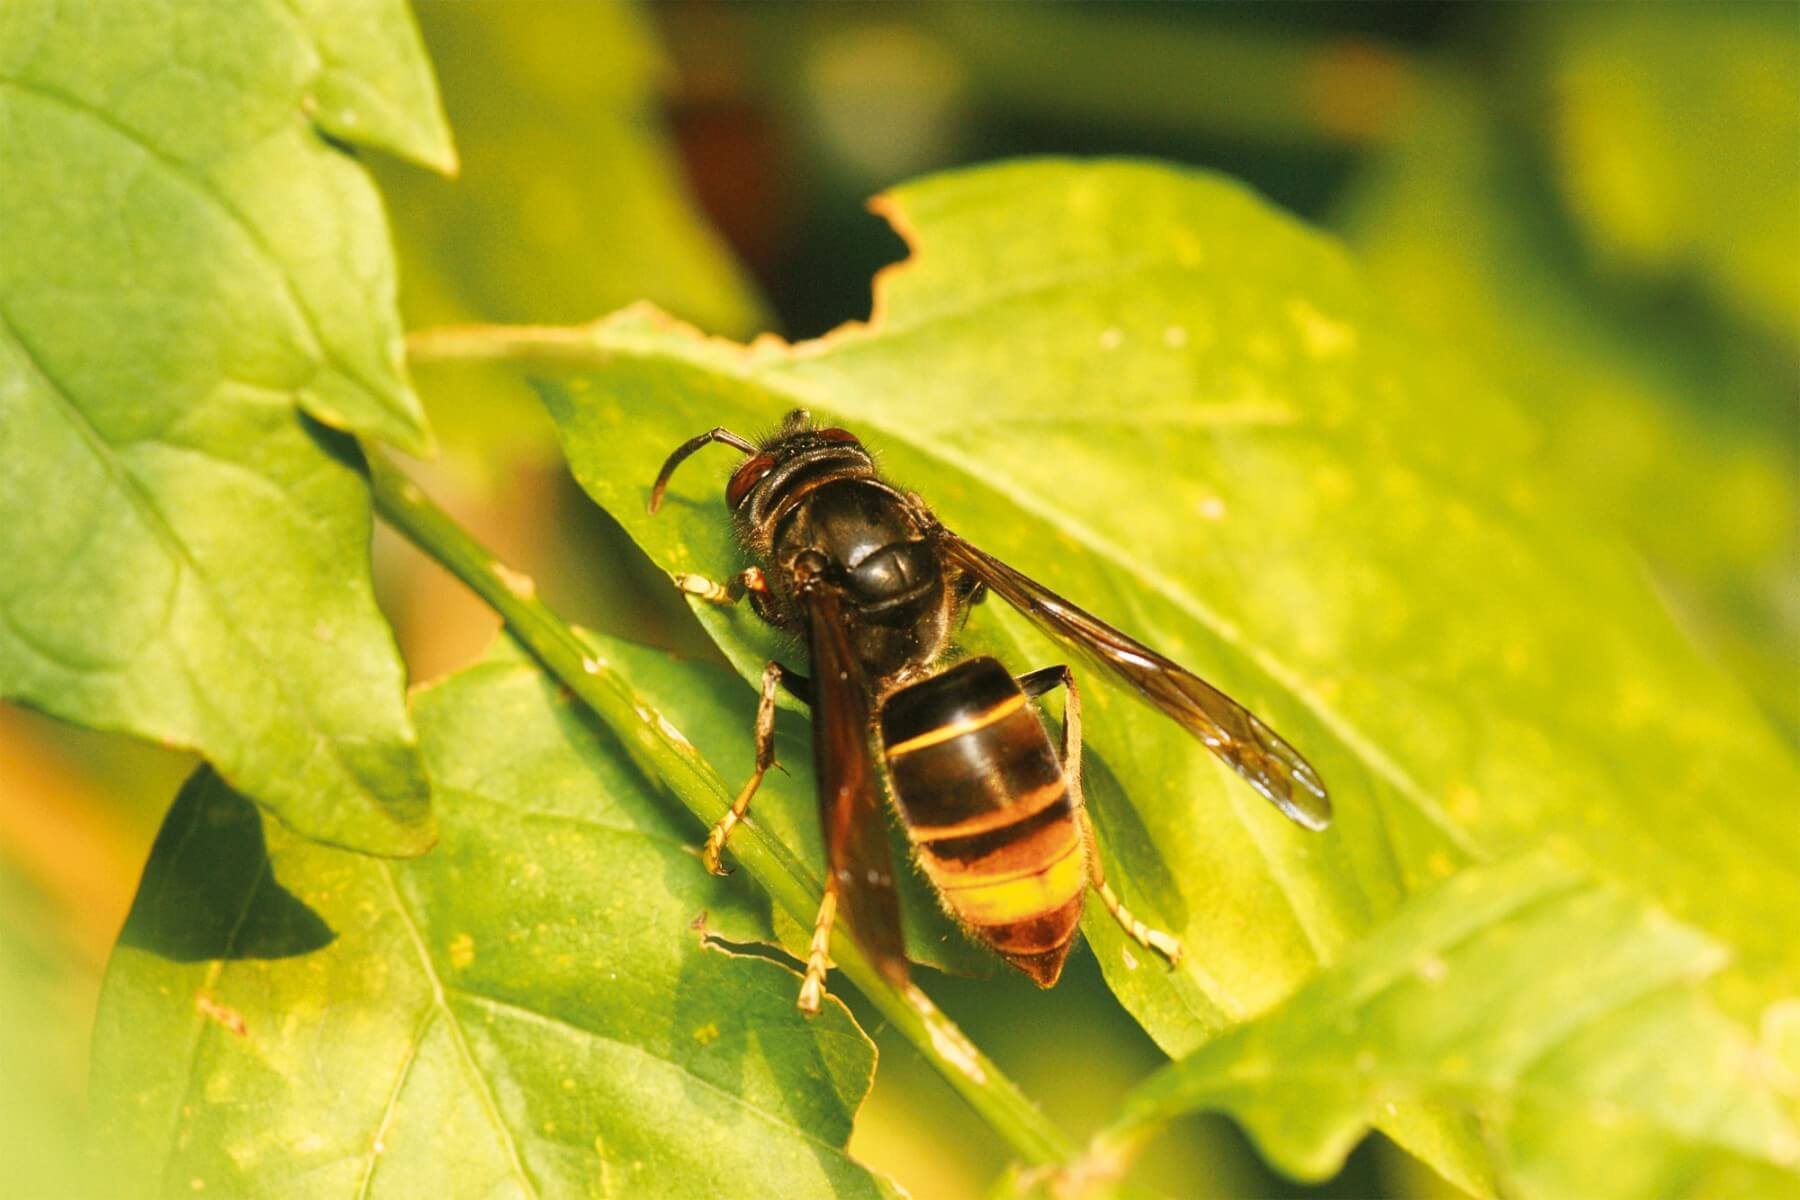hornet: (664, 379, 1239, 1007)
